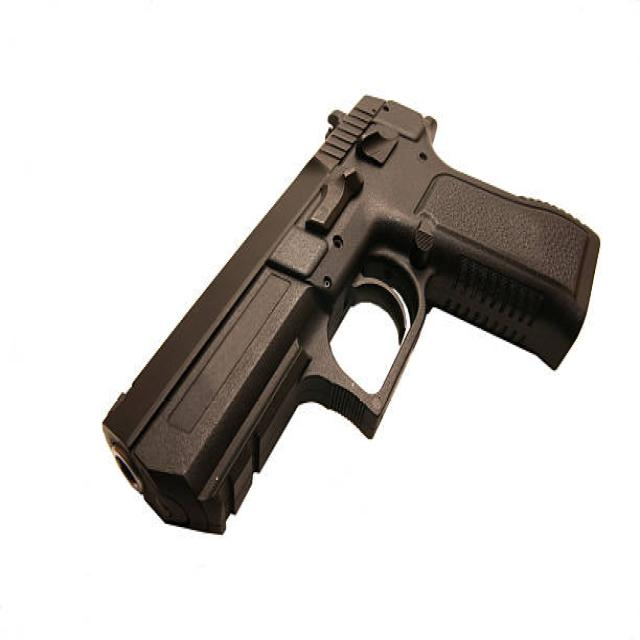pistol: (98, 86, 605, 543)
